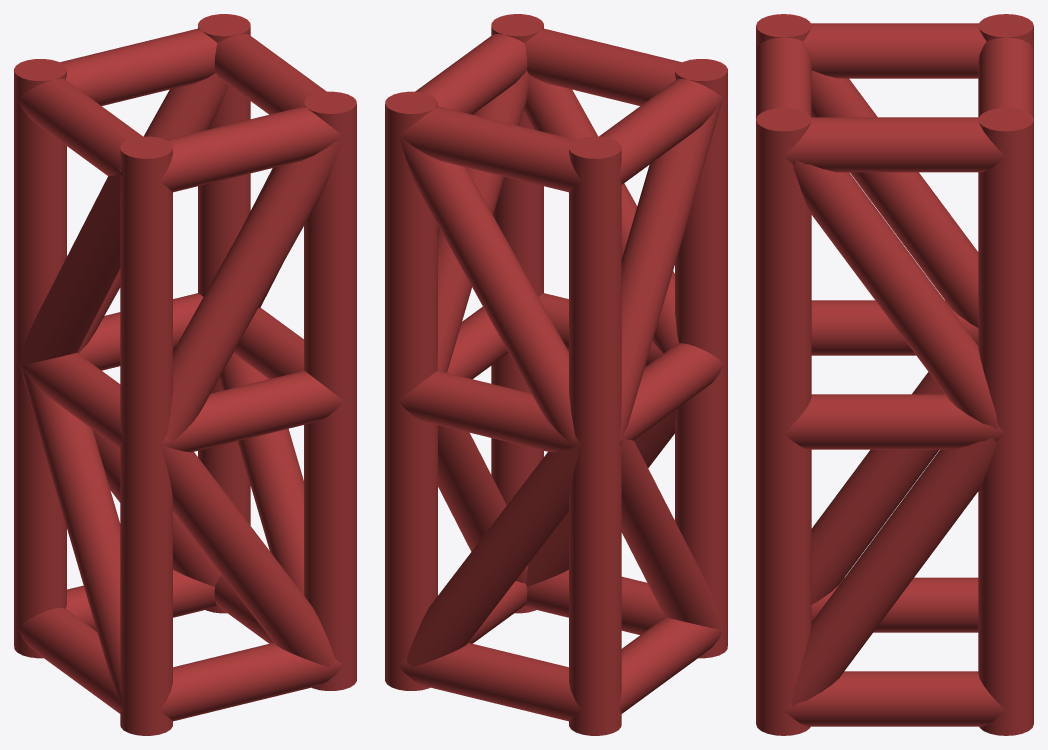
File: Crane 1.fbx
The picture shows the model from 3 angles, left to right: view 1: azimuth 30°, elevation 25°; view 2: azimuth 150°, elevation 25°; view 3: azimuth 270°, elevation 25°; orthographic projection. The views are drawn at different scales.
Parts seen in each view (by area): view 1: pCylinder8; view 2: pCylinder8; view 3: pCylinder8.
Boxes of the visible parts, <box> form: pCylinder8: <box>14,14,356,735</box>; pCylinder8: <box>385,14,727,735</box>; pCylinder8: <box>756,14,1033,735</box>.
Bounding box in the file's own units: 10 × 24 × 10.
